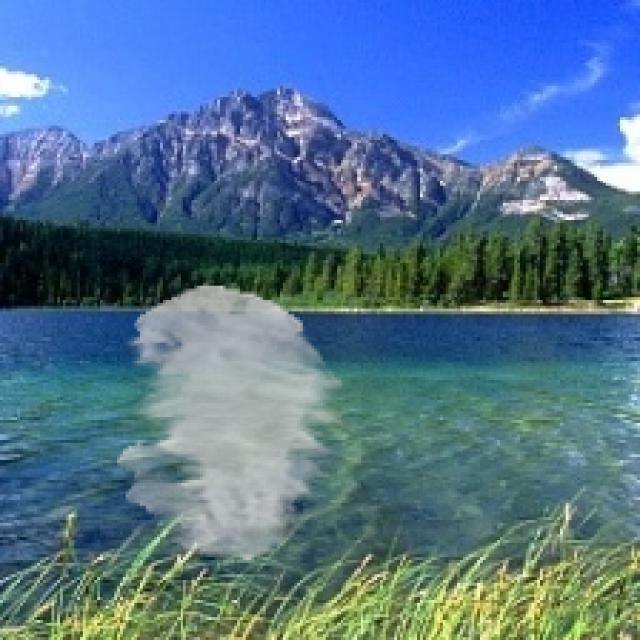smoke: (117, 286, 346, 560)
